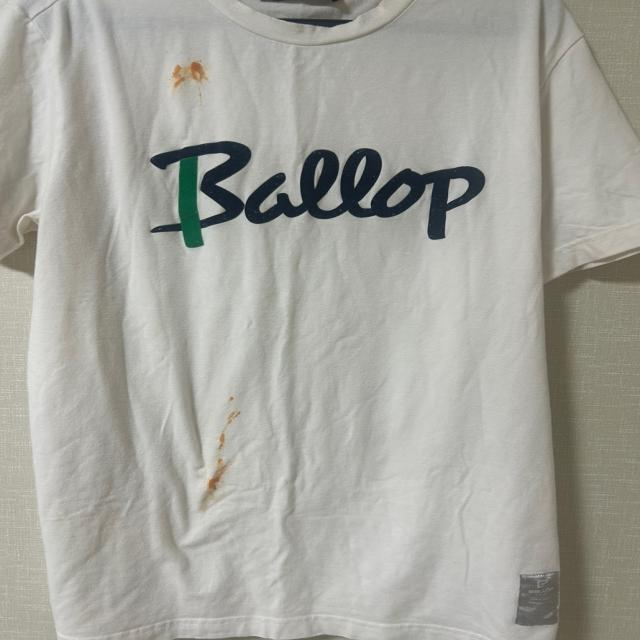stain: (200, 391, 256, 504), (170, 55, 194, 95), (188, 60, 203, 93)
